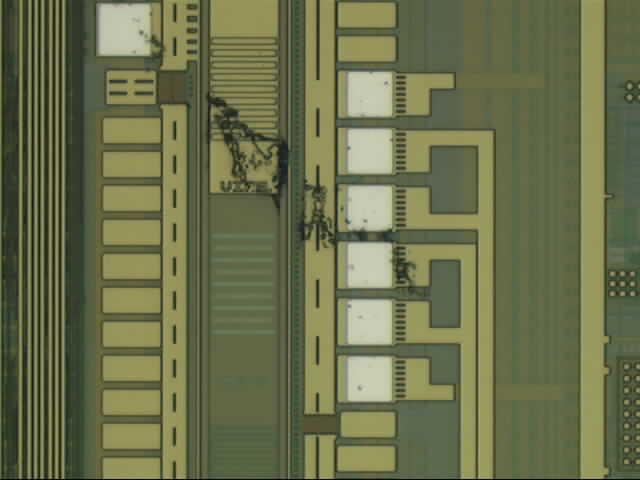SCRATCH: (124, 20, 440, 303)
